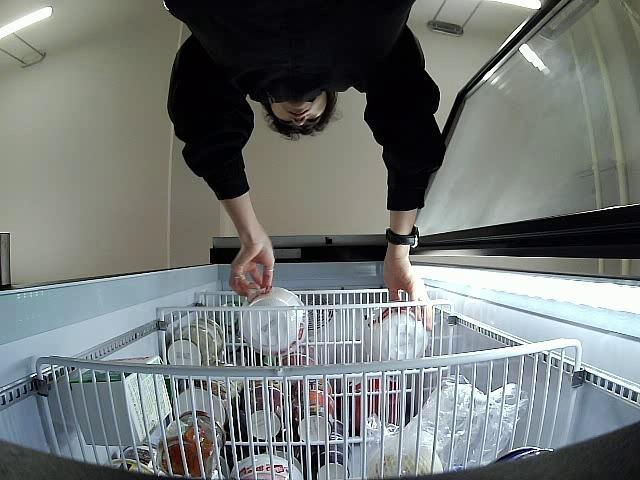09_yukGaeJang: (237, 284, 310, 356), (364, 308, 428, 360)
